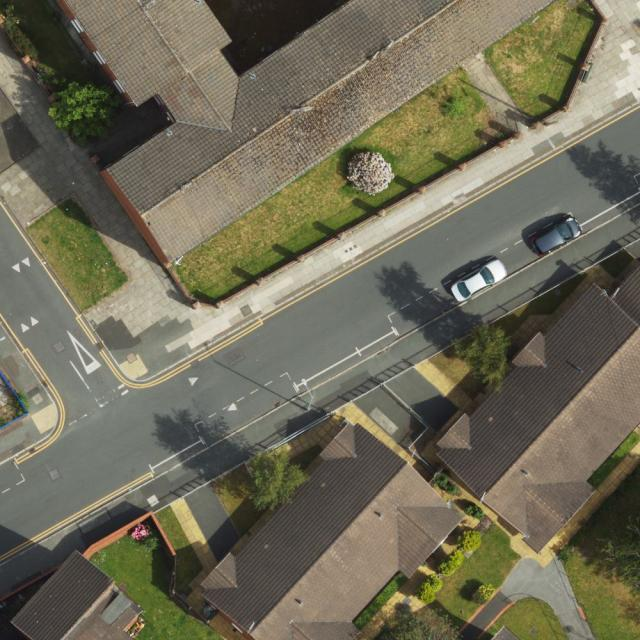roof: (63, 0, 559, 264), (435, 264, 640, 555), (200, 420, 466, 640), (12, 550, 141, 640)
